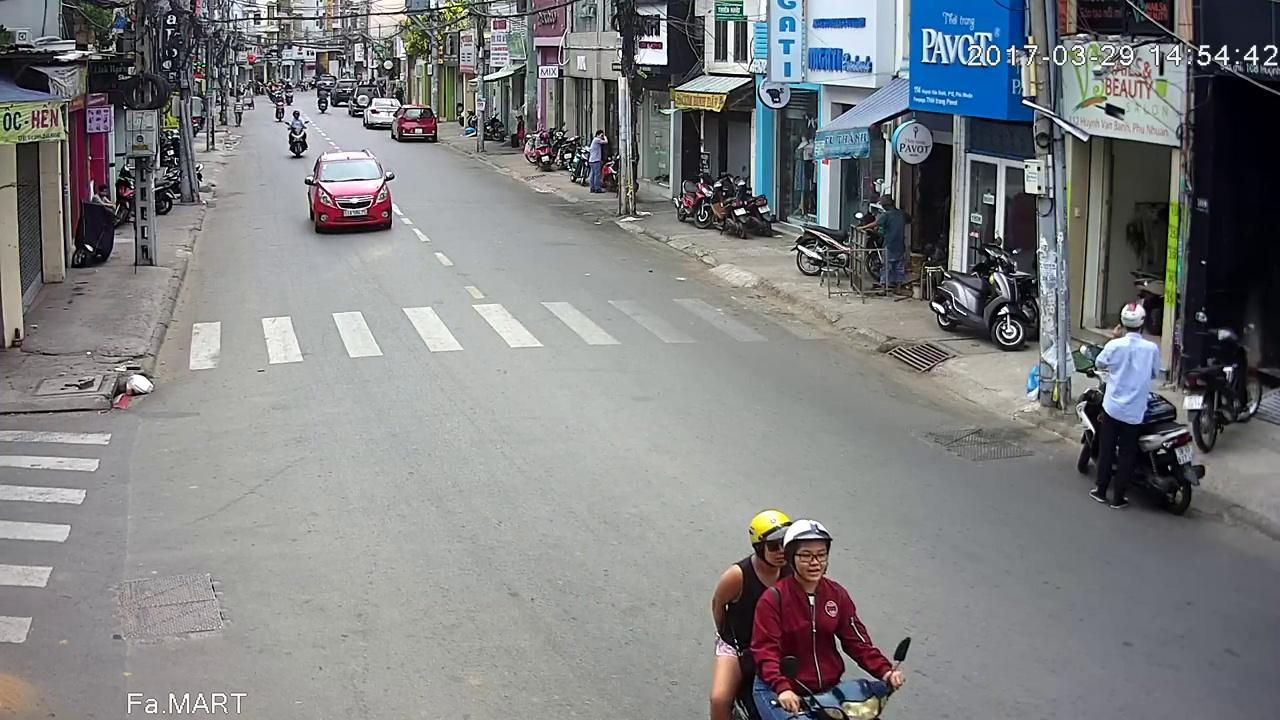xe hoi: (305, 153, 396, 238), (390, 105, 438, 144)
xe may: (679, 477, 880, 720), (283, 106, 310, 153)
